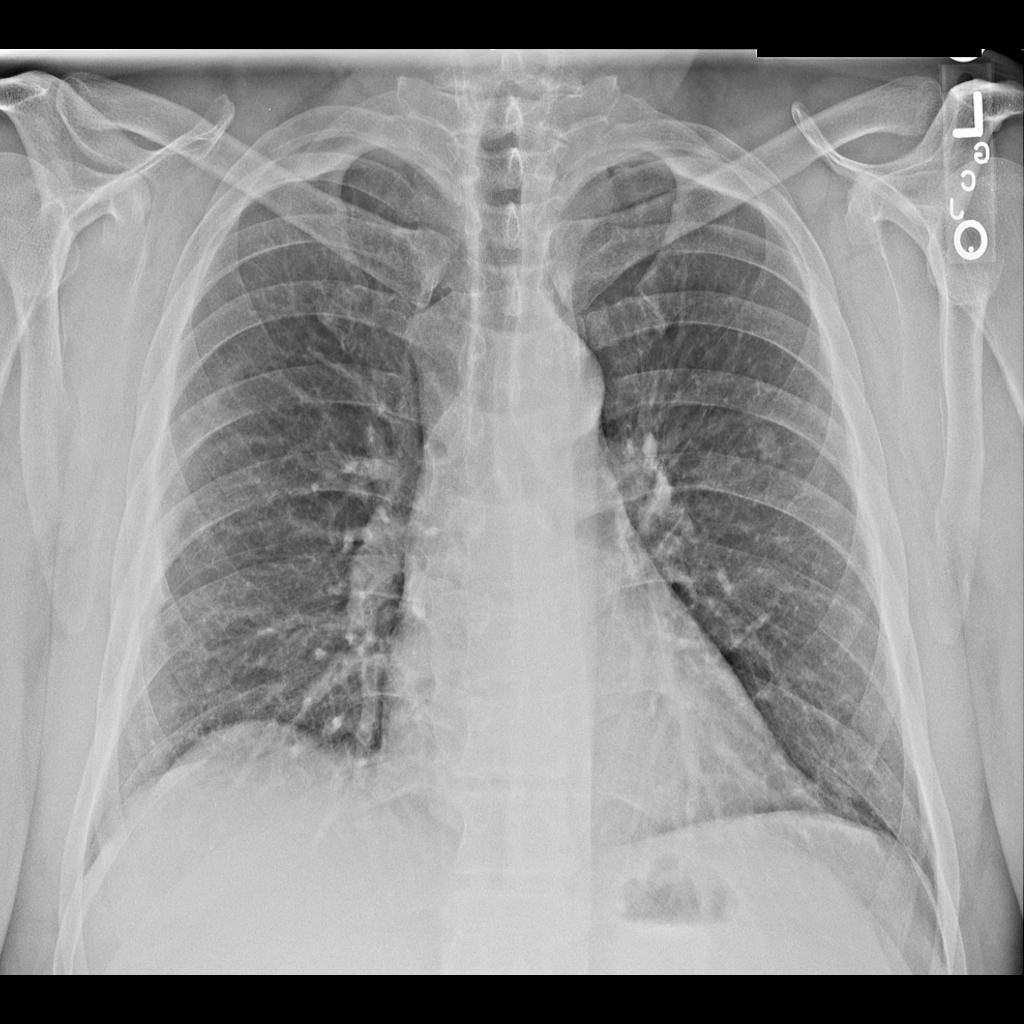Nodule: (754, 430, 786, 470)
